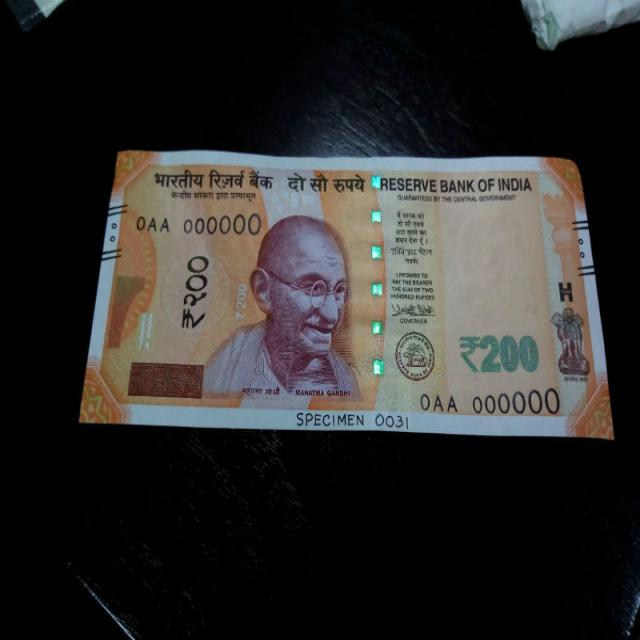200IndianRupees: (81, 152, 613, 434)
